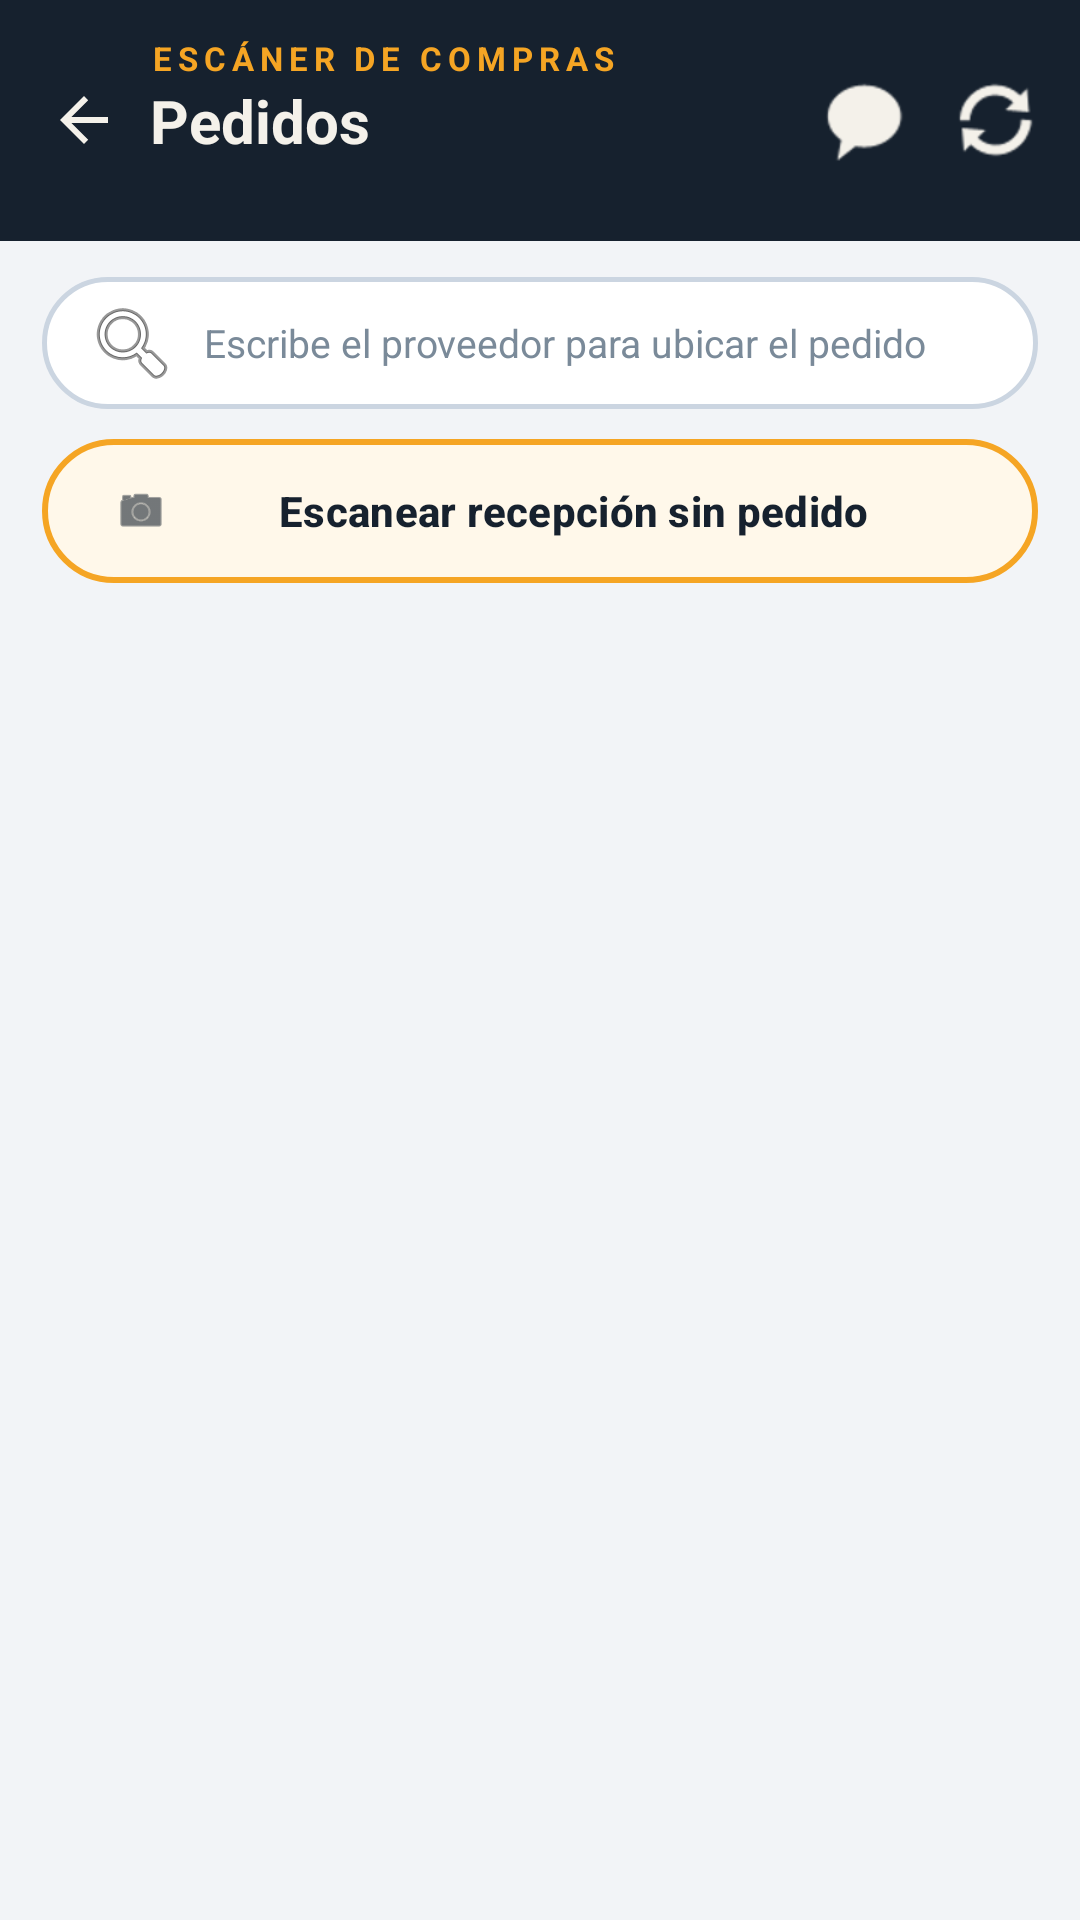

Point at icon controls on the screen. Image size 1080×1920, points as (x,y).
Actualizar: (996,120)
Escribir a Compras: (864,122)
Volver: (84,120)
